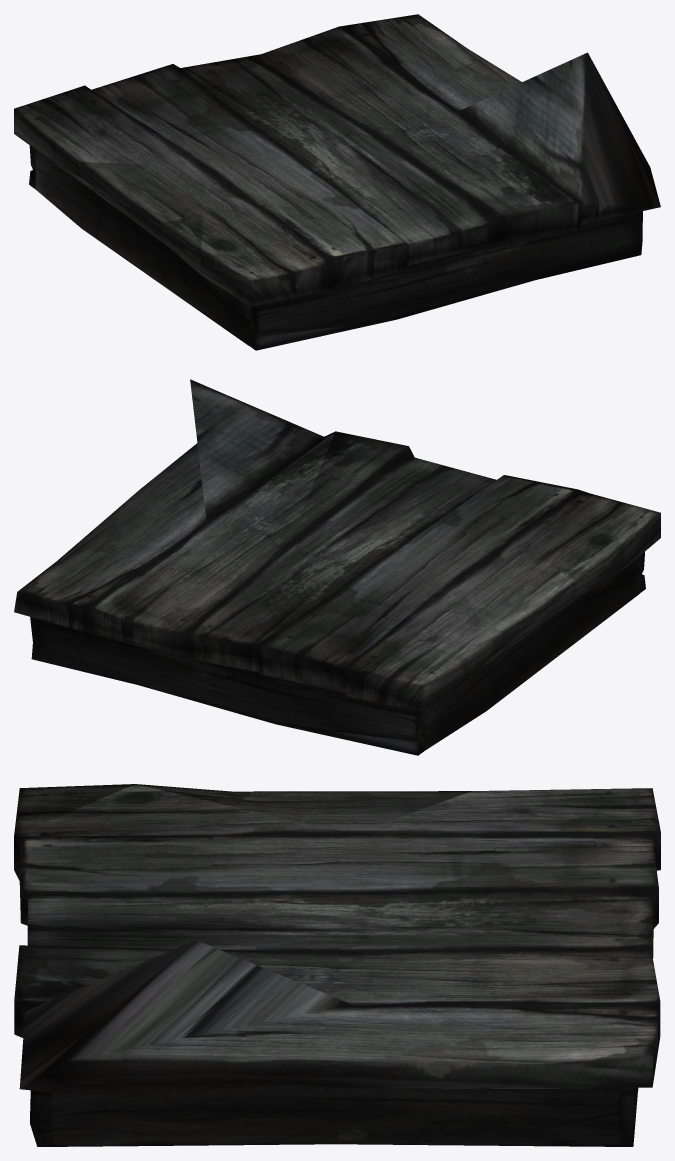
Rendered from Chapter1_L1_Minge04_PlatformWooden4.obj.
The picture shows the model from 3 angles, top to bottom: view 1: azimuth 30°, elevation 25°; view 2: azimuth 150°, elevation 25°; view 3: azimuth 270°, elevation 25°; orthographic projection. The views are drawn at different scales.
Parts seen in each view (by area): view 1: PlatformWooden; view 2: PlatformWooden; view 3: PlatformWooden.
Boxes of the visible parts, bbox=[...] form: PlatformWooden: bbox=[14, 14, 660, 350]; PlatformWooden: bbox=[14, 379, 660, 755]; PlatformWooden: bbox=[14, 784, 660, 1146].
Bounding box in the file's own units: 133 × 47.46 × 131.
